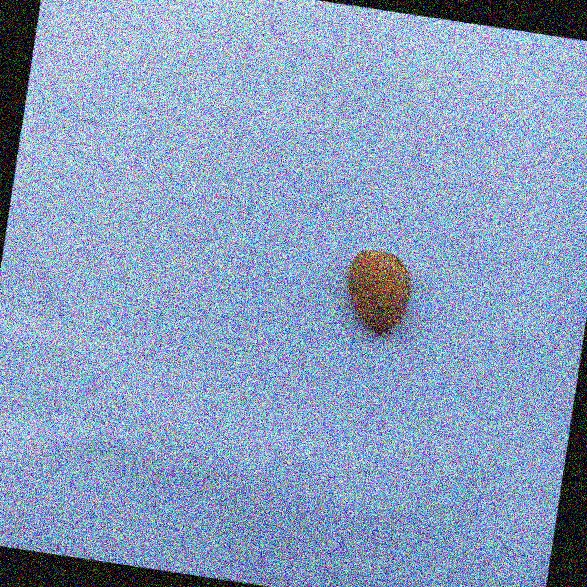grade2: (334, 243, 420, 341)
